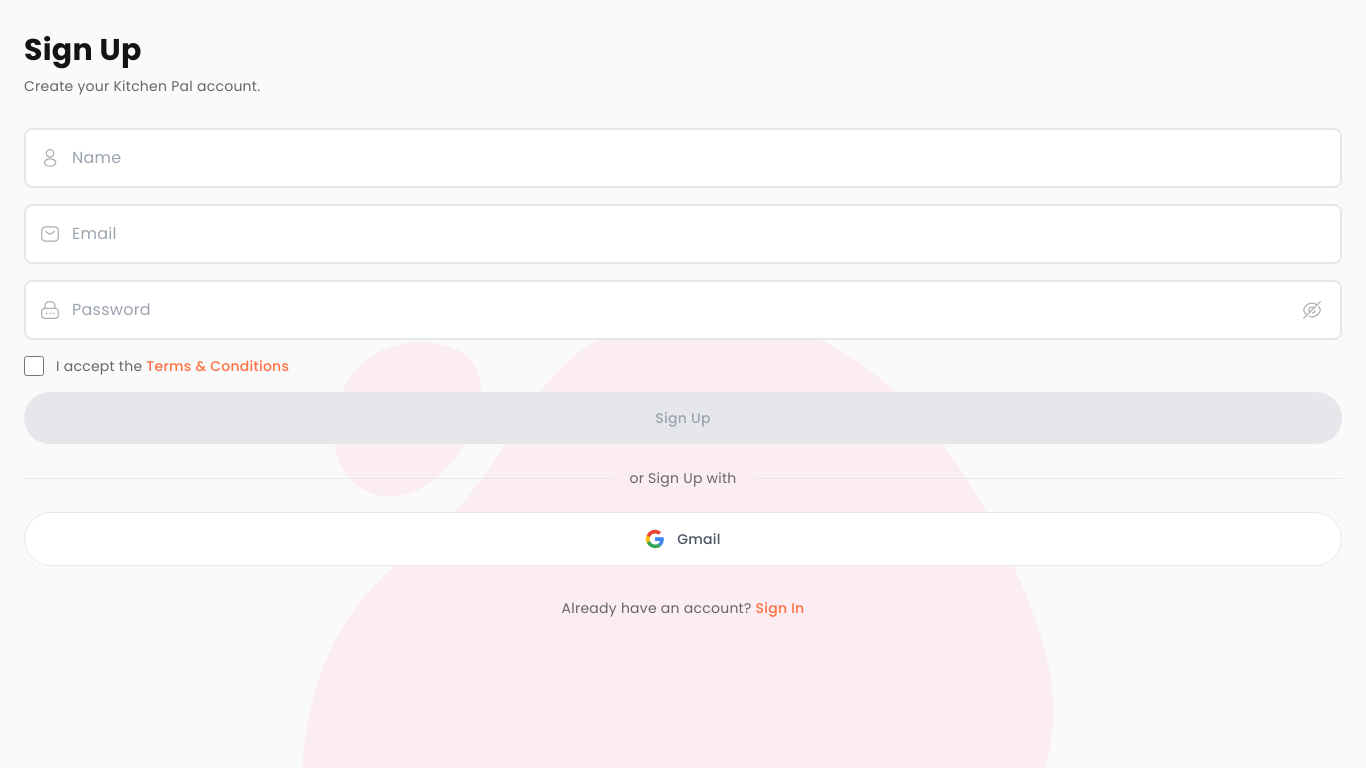
Test case: SignupPage › shows inline validation errors
The width and height of the screenshot is (1366, 768).
Click the field with placeholder "Name" at (683, 158), box top-left (24, 128), bottom-right (1342, 188)
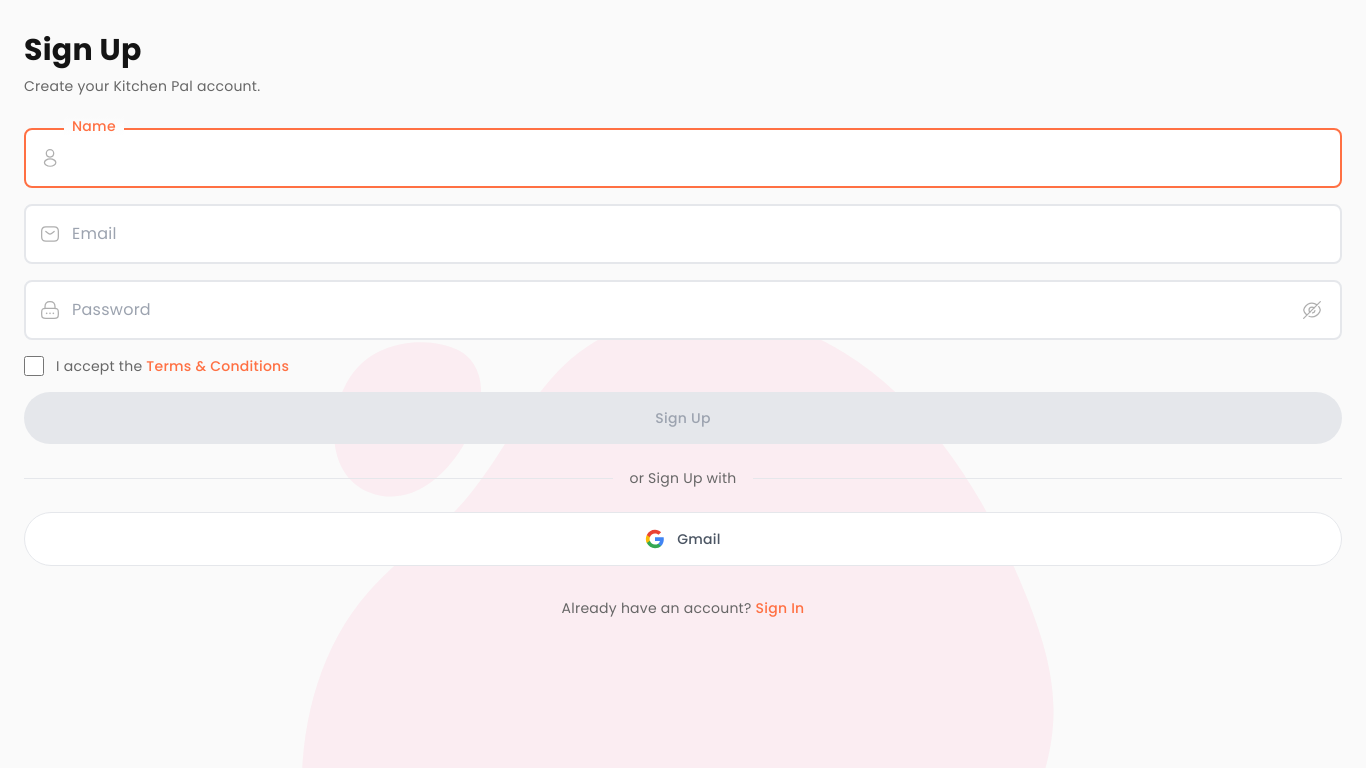
Press Tab
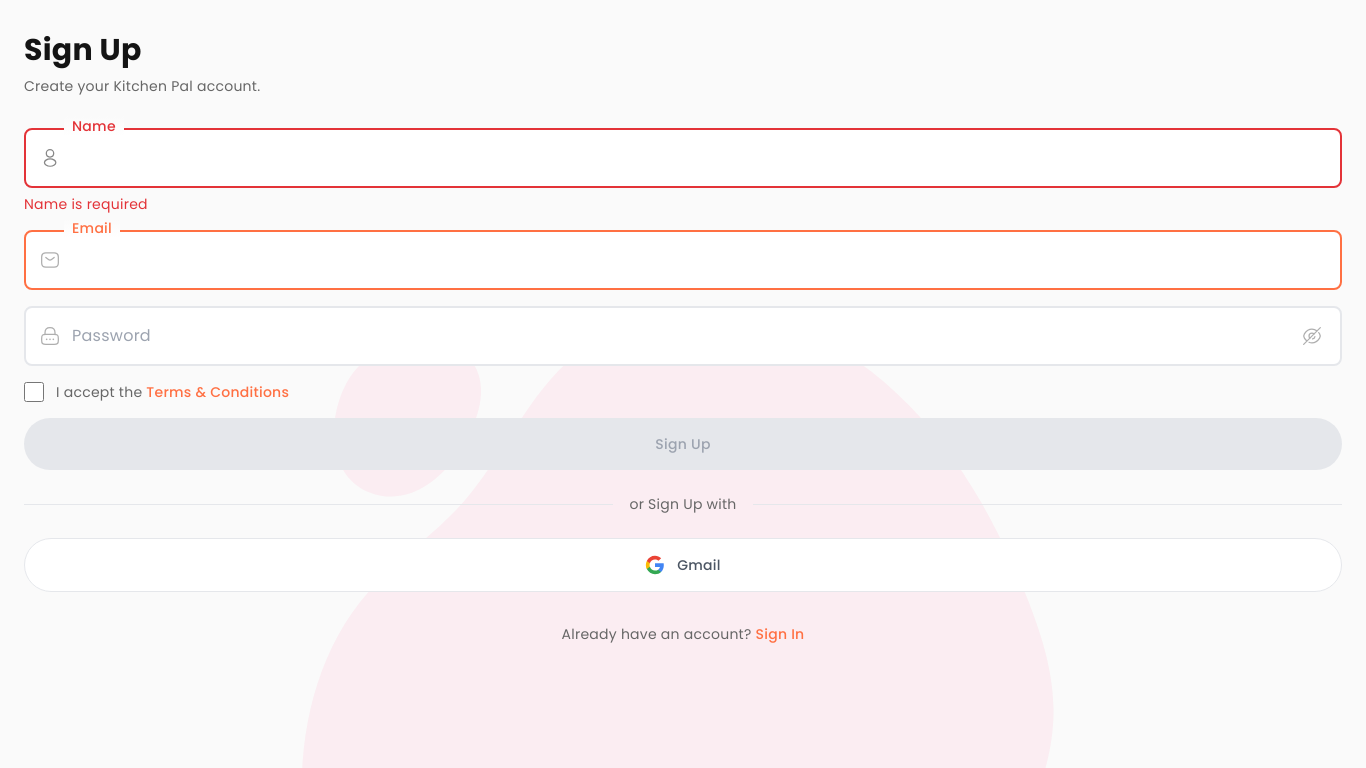
Type "invalid-email" into the field with placeholder "Email" at (683, 260), box top-left (24, 230), bottom-right (1342, 290)
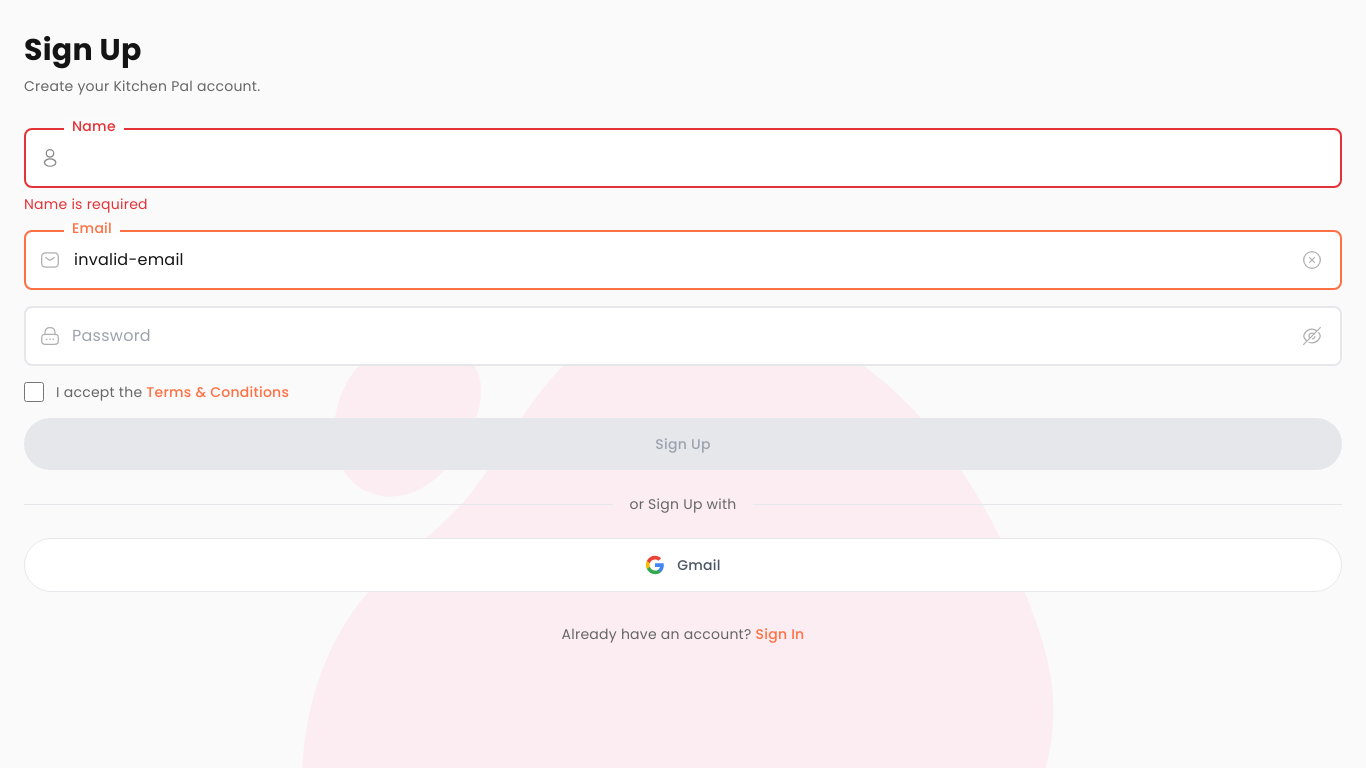
Press Tab
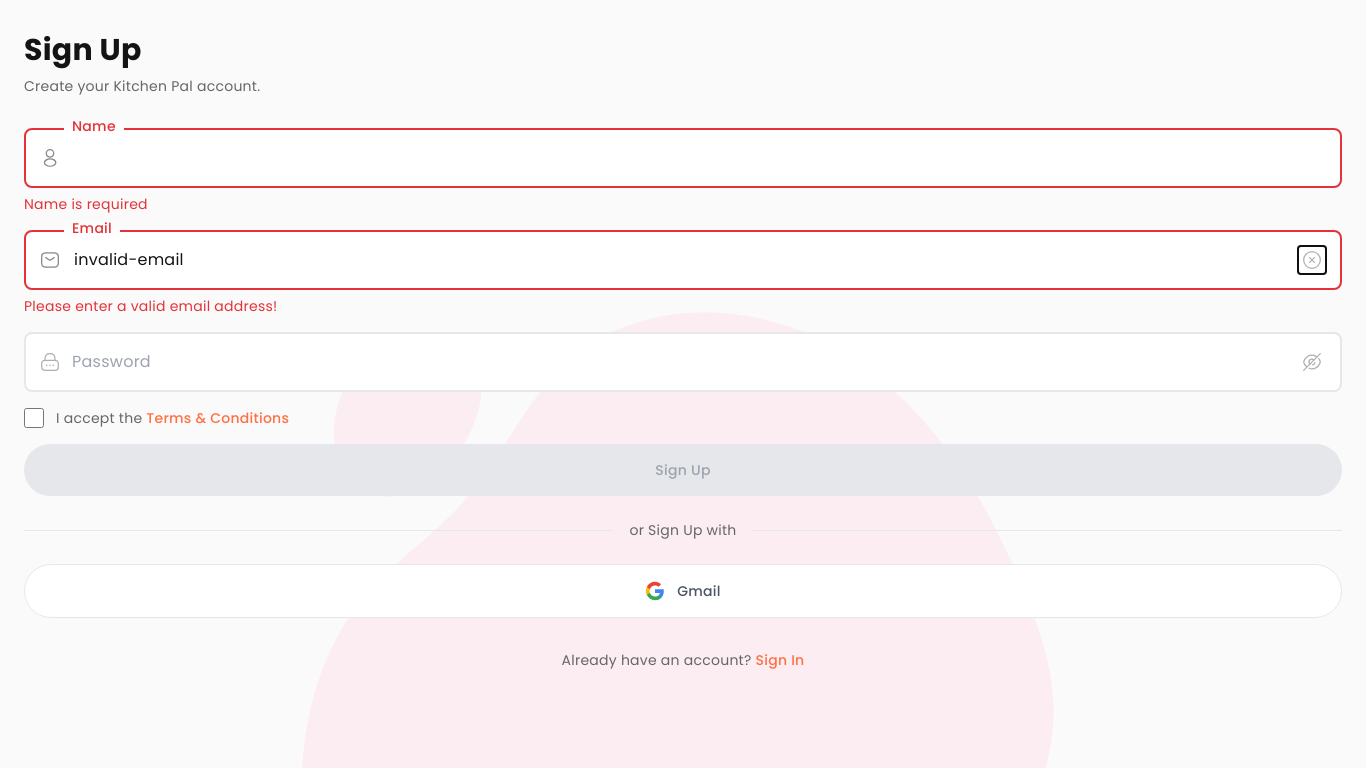
Type "123" into the password field with placeholder "Password" at (683, 362), box top-left (24, 332), bottom-right (1342, 392)
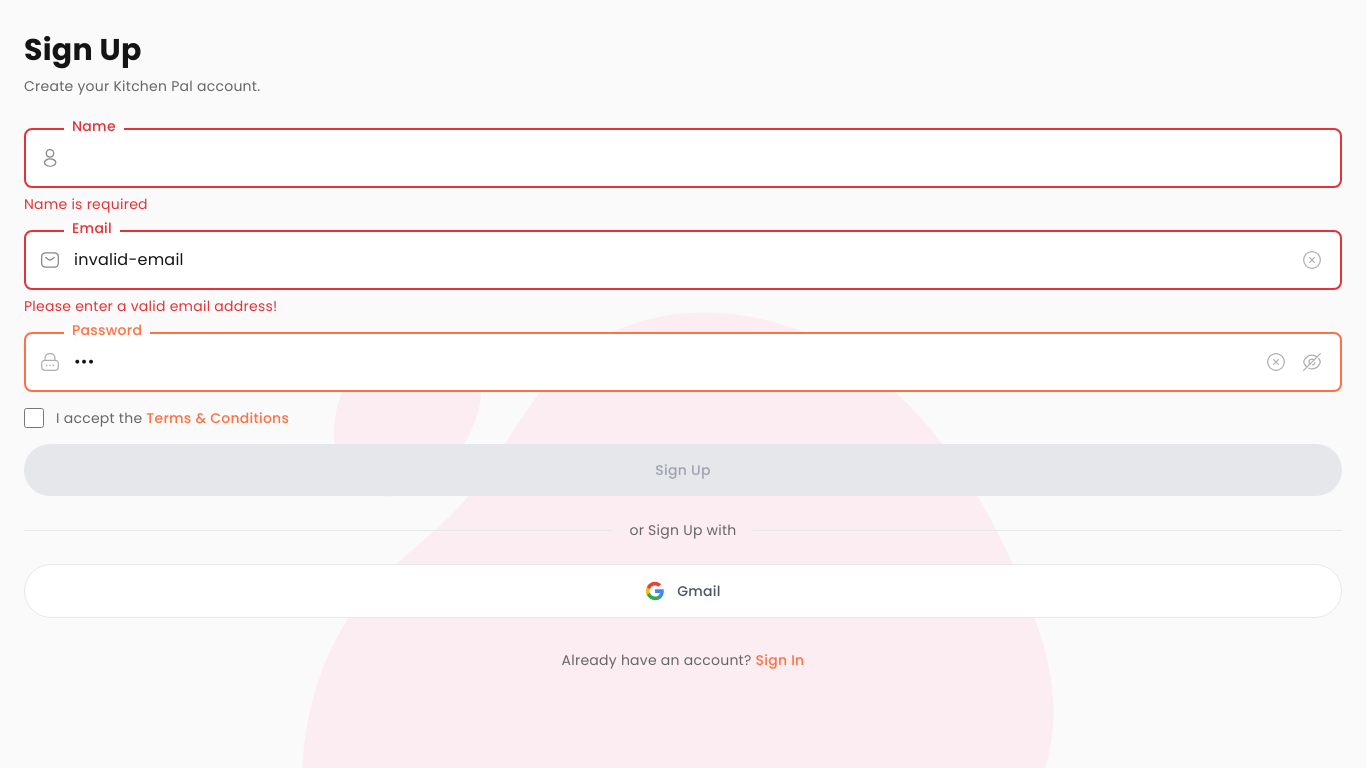
Press Tab
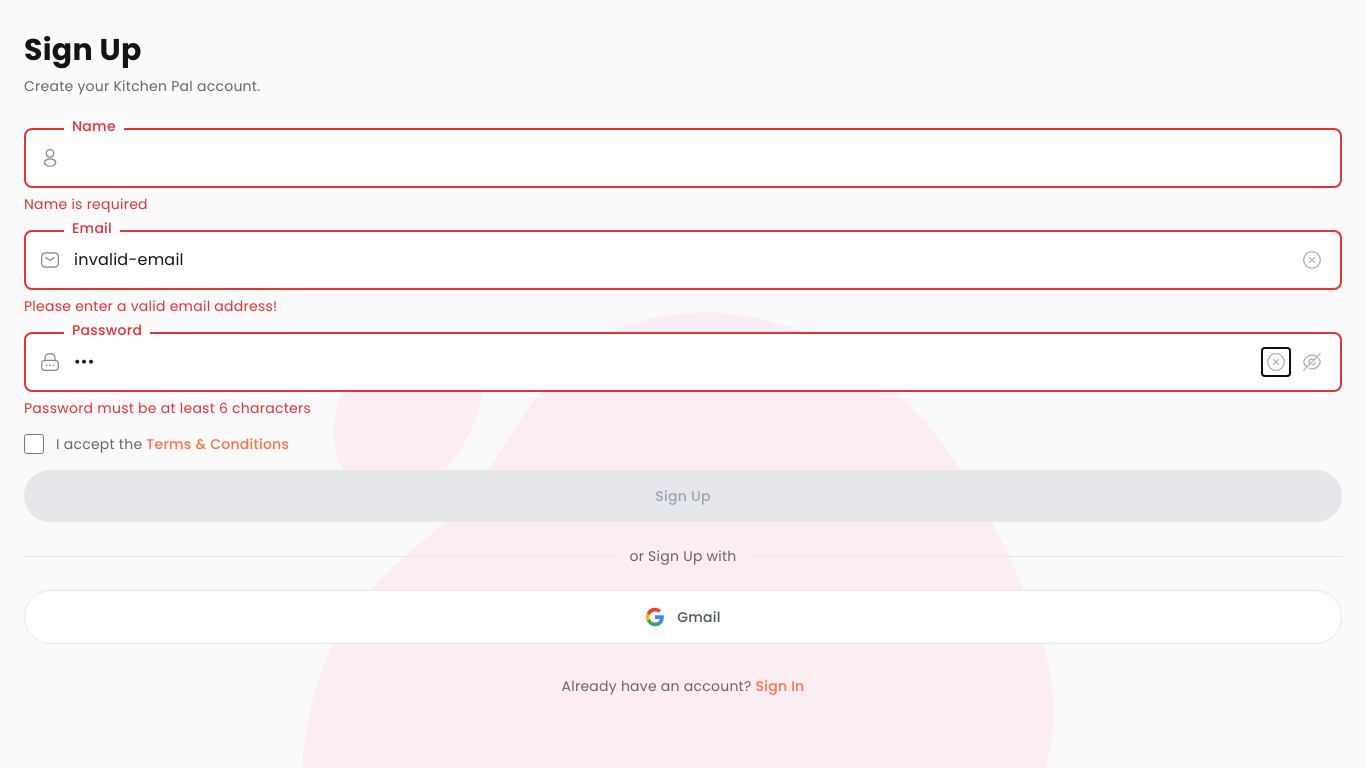
Expected: the text "Name is required" is shown, top-left (24, 194), bottom-right (148, 214)
Expected: the text "Please enter a valid email address!" is shown, top-left (24, 296), bottom-right (277, 316)
Expected: the text "Password must be at least 6 characters" is shown, top-left (24, 398), bottom-right (311, 418)
